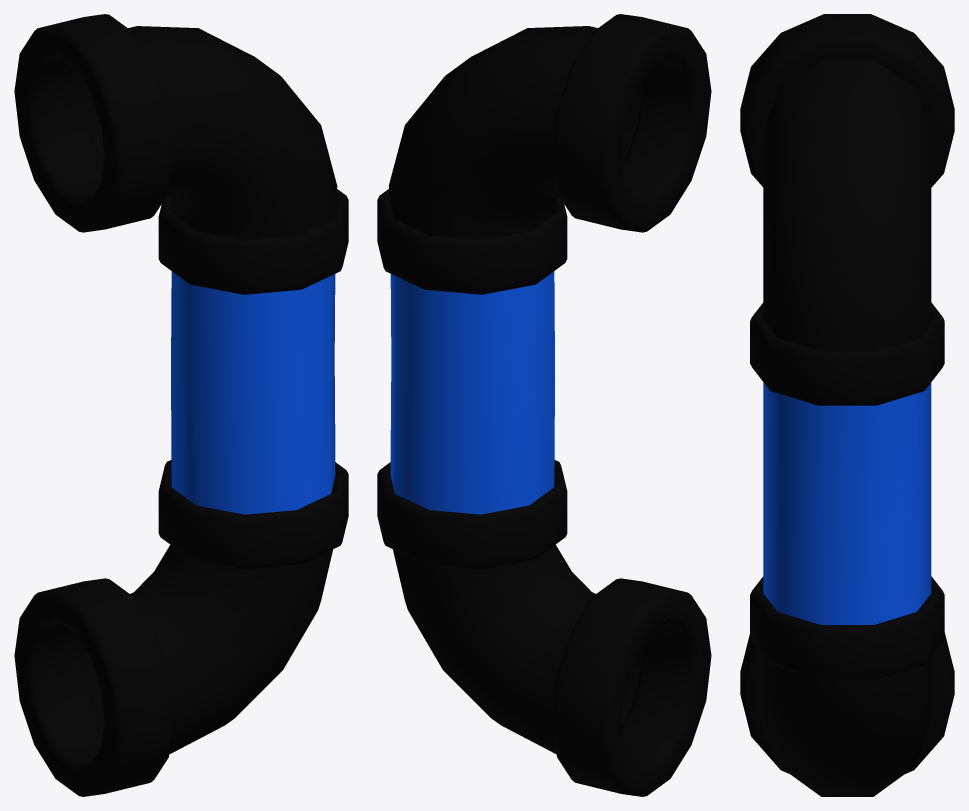
Rendered from LevelRework_SmallWallTube_BaseBaked.fbx.
The picture shows the model from 3 angles, left to right: view 1: azimuth 30°, elevation 25°; view 2: azimuth 150°, elevation 25°; view 3: azimuth 270°, elevation 25°; orthographic projection.
Parts seen in each view (by area): view 1: SmallWallTube_BaseBaked, SmallWallTube_ConnectorsBaked, SmallWallTube_RingsBaked; view 2: SmallWallTube_BaseBaked, SmallWallTube_ConnectorsBaked, SmallWallTube_RingsBaked; view 3: SmallWallTube_BaseBaked, SmallWallTube_RingsBaked, SmallWallTube_ConnectorsBaked.
Boxes of the visible parts, x1,y1,x2,y2 form: SmallWallTube_BaseBaked: [84, 26, 337, 754]; SmallWallTube_ConnectorsBaked: [14, 14, 173, 796]; SmallWallTube_RingsBaked: [158, 189, 348, 569]; SmallWallTube_BaseBaked: [388, 26, 641, 754]; SmallWallTube_ConnectorsBaked: [552, 14, 711, 796]; SmallWallTube_RingsBaked: [377, 189, 567, 569]; SmallWallTube_BaseBaked: [763, 60, 931, 796]; SmallWallTube_RingsBaked: [750, 302, 944, 679]; SmallWallTube_ConnectorsBaked: [740, 14, 954, 773].
Size of the model in its own units: 55.81 by 150 by 38.76.
